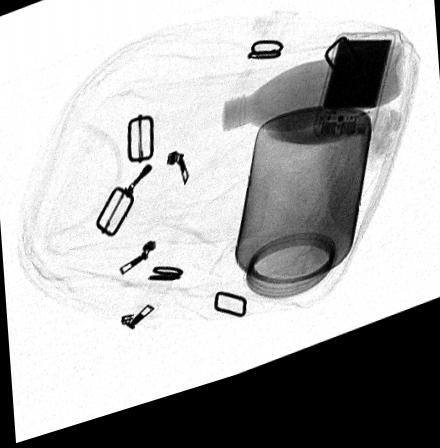Powerbank: (310, 52, 396, 155)
